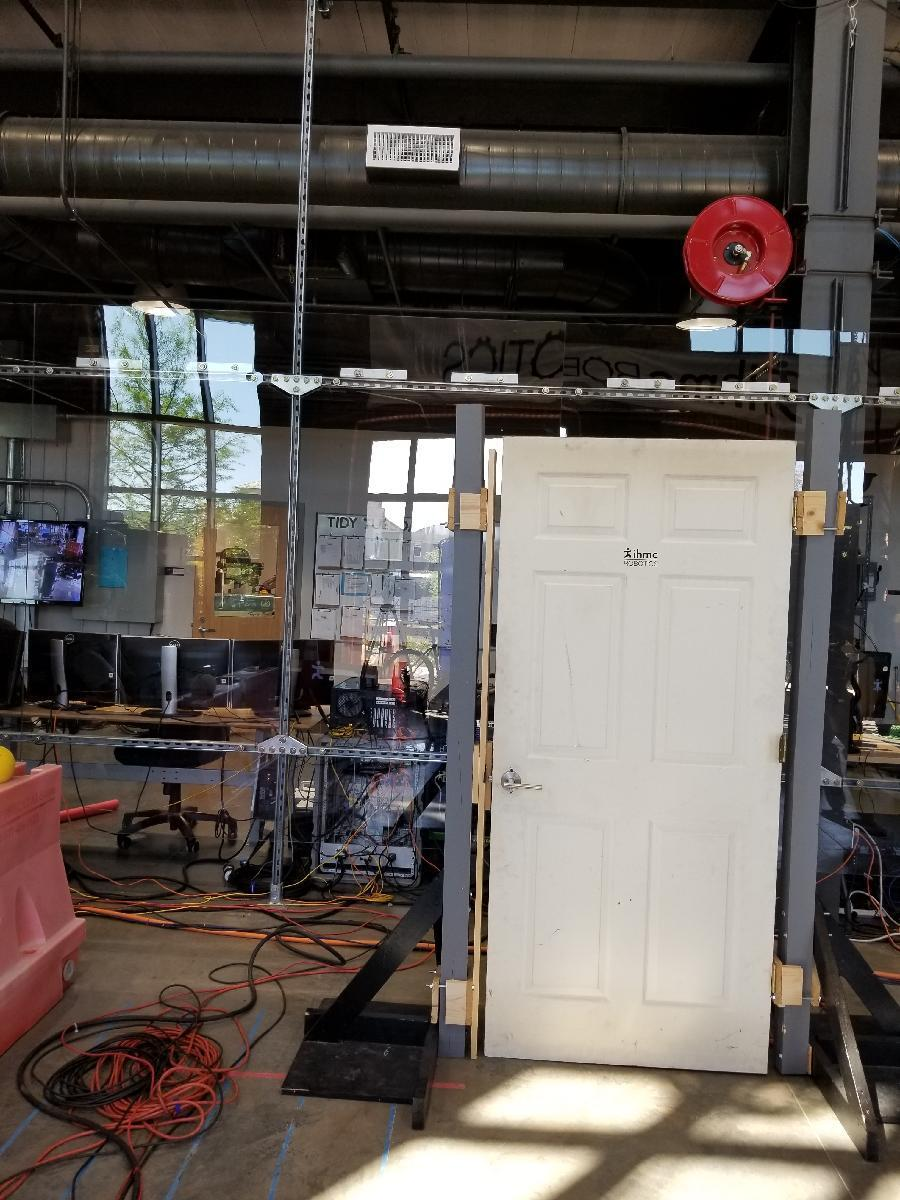door: (494, 438, 775, 1075)
handle: (498, 768, 545, 796)
